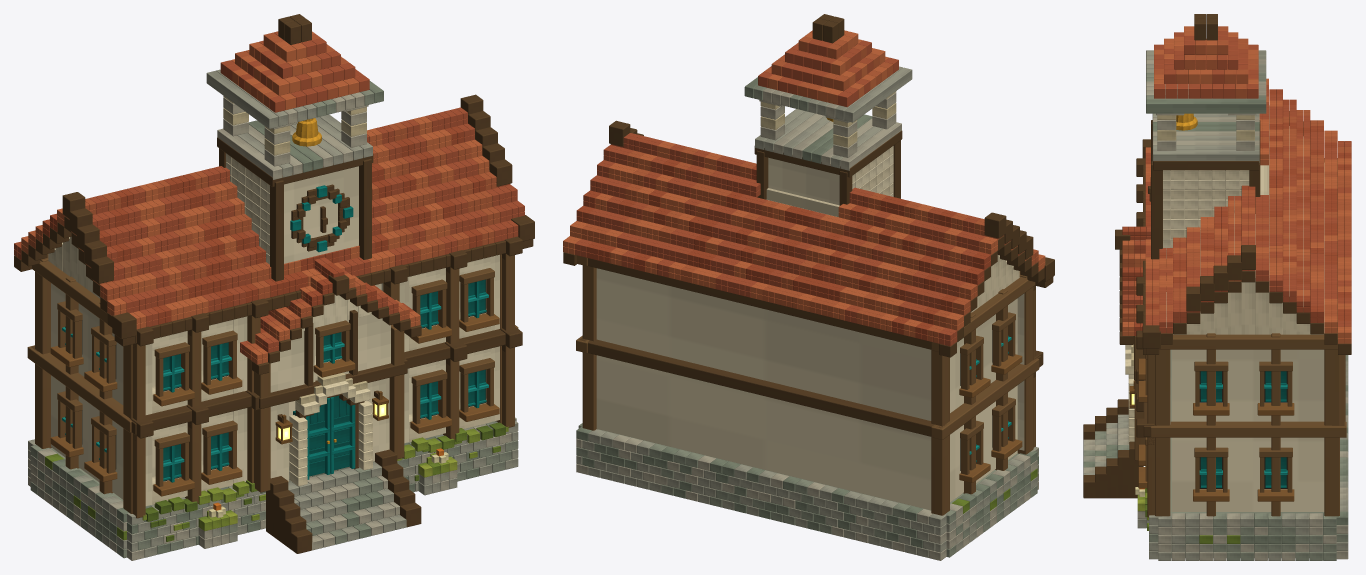
Rendered from SM_Blender_CivicHall.fbx.
The picture shows the model from 3 angles, left to right: view 1: azimuth 30°, elevation 25°; view 2: azimuth 150°, elevation 25°; view 3: azimuth 270°, elevation 25°; orthographic projection. The views are drawn at different scales.
Parts seen in each view (by area): view 1: SM_Blender_CivicHall; view 2: SM_Blender_CivicHall; view 3: SM_Blender_CivicHall.
Boxes of the visible parts, x1=… form: SM_Blender_CivicHall: x1=14, y1=14, x2=534, y2=560; SM_Blender_CivicHall: x1=563, y1=14, x2=1054, y2=560; SM_Blender_CivicHall: x1=1083, y1=14, x2=1351, y2=560.
Bounding box in the file's own units: 798 × 468 × 869.
1 material, 1 textured.
